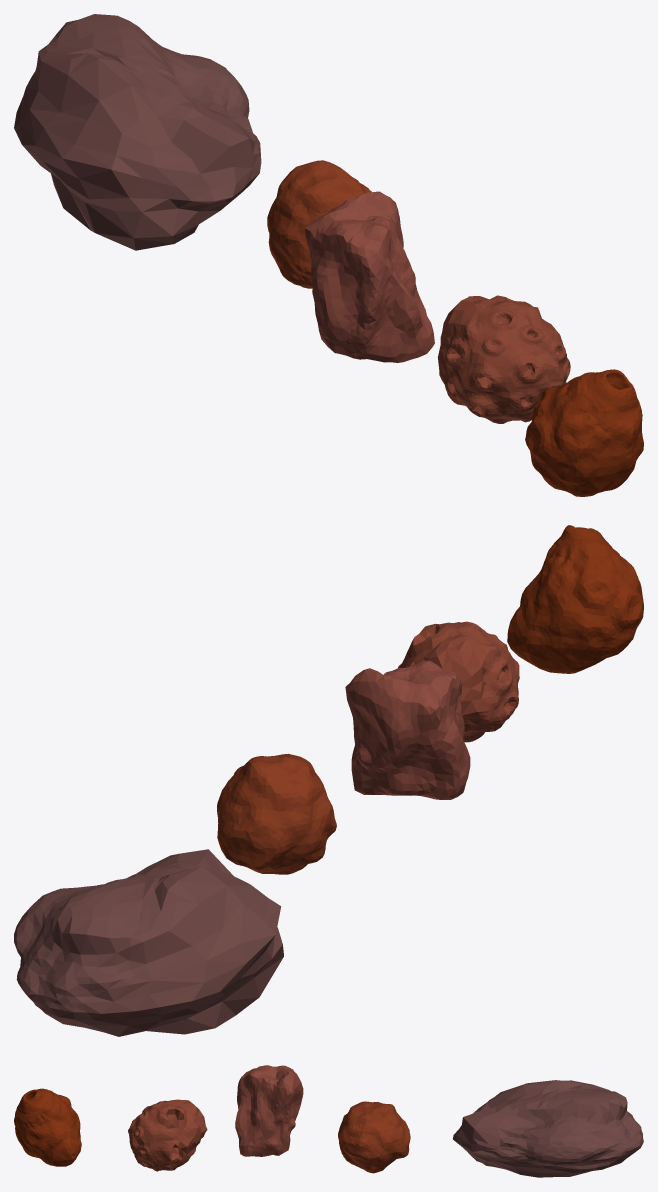
Rendered from comet.fbx.
3 views of the same model, one above another, from view 1: azimuth 30°, elevation 25°; view 2: azimuth 150°, elevation 25°; view 3: azimuth 270°, elevation 25° (orthographic). The views are drawn at different scales.
Visible parts, largest first — view 1: Sphere.003, Cube, Sphere.001, Sphere.002, Sphere; view 2: Sphere.003, Cube, Sphere.002, Sphere, Sphere.001; view 3: Sphere.003, Cube, Sphere.001, Sphere.002, Sphere.
Part boxes in pixels (x1,y1,x2,y2): Sphere.003: (14,14,261,250); Cube: (305,191,434,362); Sphere.001: (437,295,570,423); Sphere.002: (525,369,643,496); Sphere: (267,160,371,288); Sphere.003: (14,849,283,1036); Cube: (345,660,470,799); Sphere.002: (507,525,643,673); Sphere: (217,753,336,874); Sphere.001: (398,621,519,742); Sphere.003: (453,1080,643,1177); Cube: (235,1065,303,1156); Sphere.001: (128,1099,207,1171); Sphere.002: (14,1088,81,1166); Sphere: (338,1101,410,1173).
Bounding box in the file's own units: 444 × 356 × 2030.
